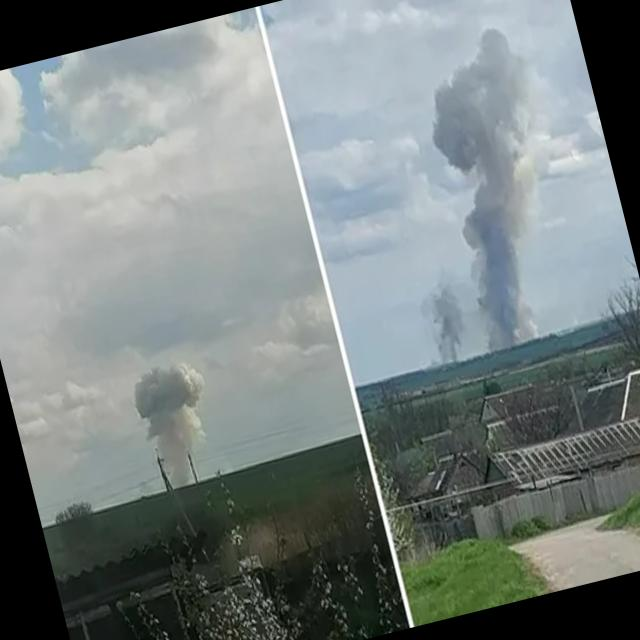Smoke: (412, 22, 592, 350), (128, 359, 225, 491), (414, 276, 474, 365)
